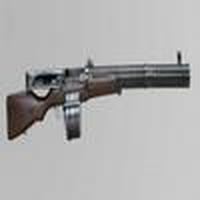gun: (3, 62, 200, 144)
